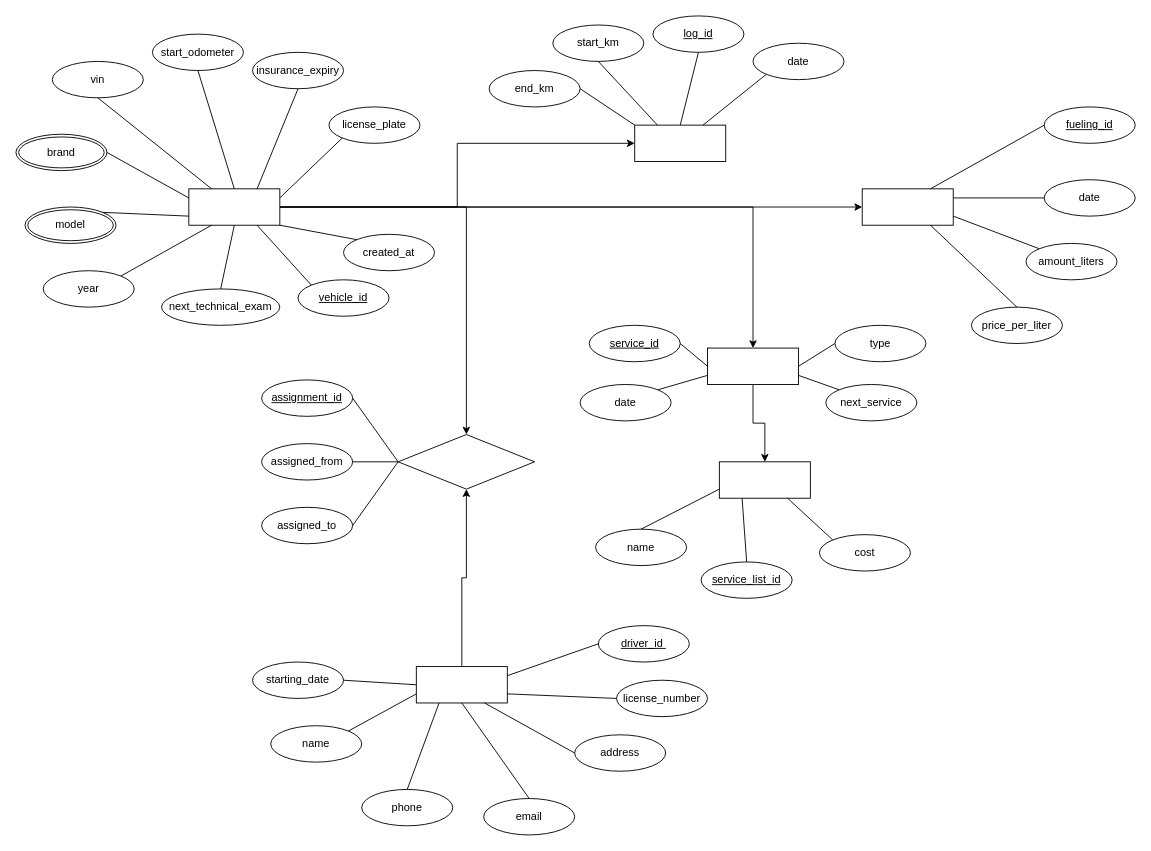
Image size: 1151x851. Some labels were removed from this diagram. The box of each missing label's shape, as (x1, y1, x2, y2) in pixels:
driver_assignments: (397, 434, 535, 489)
drivers: (415, 666, 507, 703)
fuelings: (861, 188, 953, 225)
service_list: (718, 461, 810, 498)
services: (707, 347, 799, 384)
travel_document: (634, 124, 726, 162)
vehicles: (188, 188, 280, 225)
